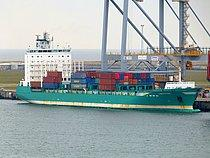Ship: (14, 66, 206, 117)
